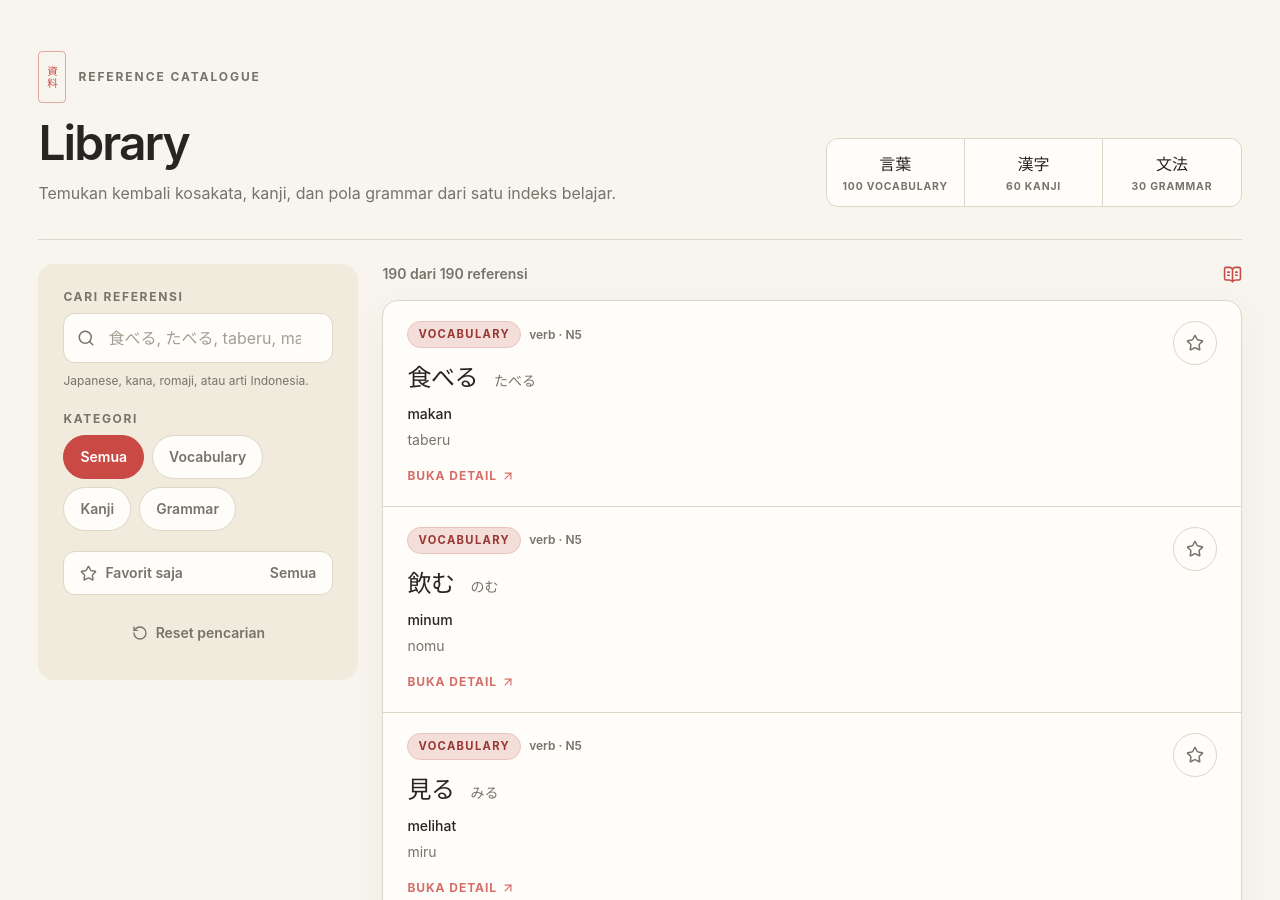
Test: LibraryPage › searches Japanese learning content by romaji and resets the result
In the search field labelled "Cari referensi": x=198, y=338 [63,313,333,363], type "taberu"
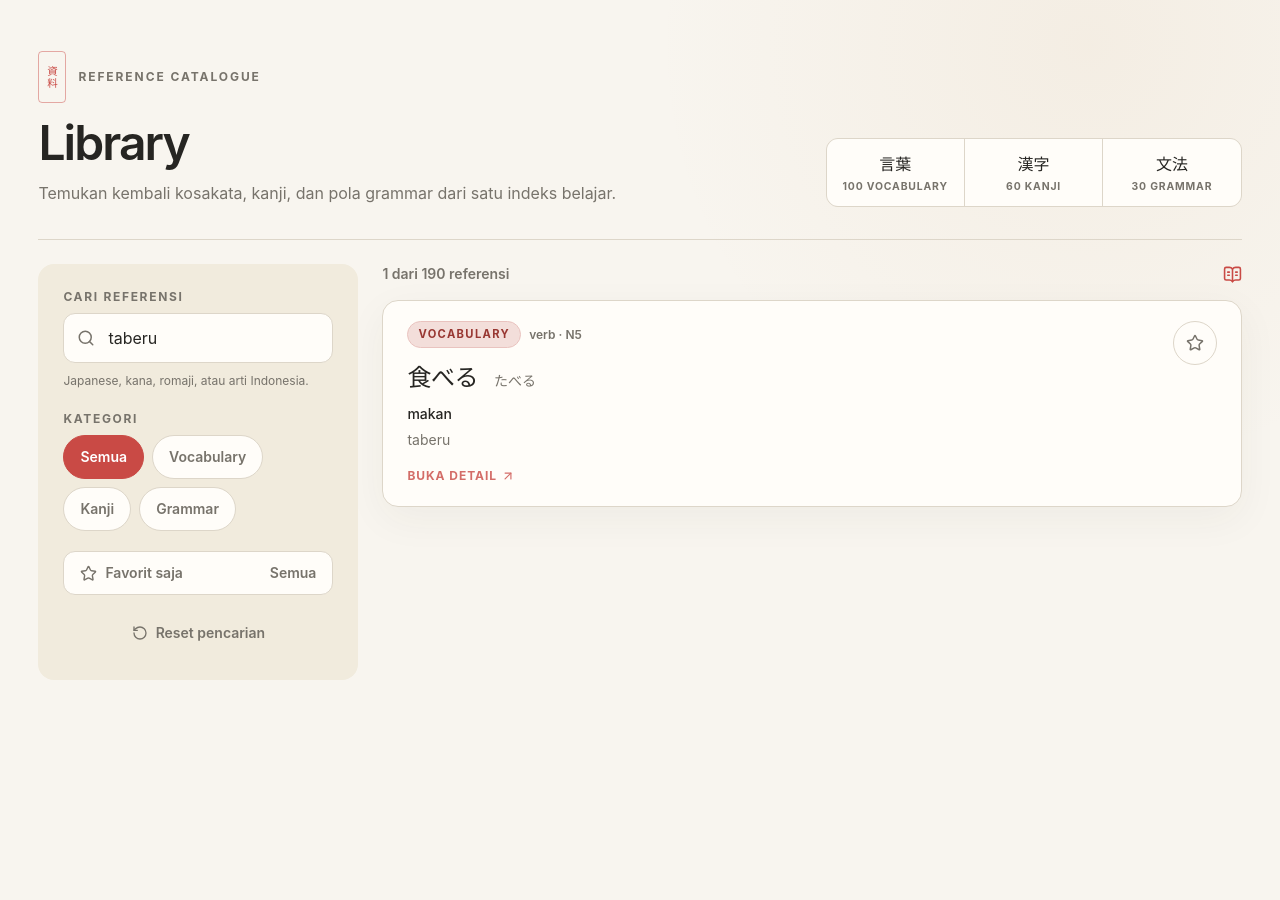
Check: the heading "食べる" is shown, box [407,360,478,392]
Check: the link "飲む" is gone
Click the button "Reset pencarian": x=198, y=633 [63,611,333,655]
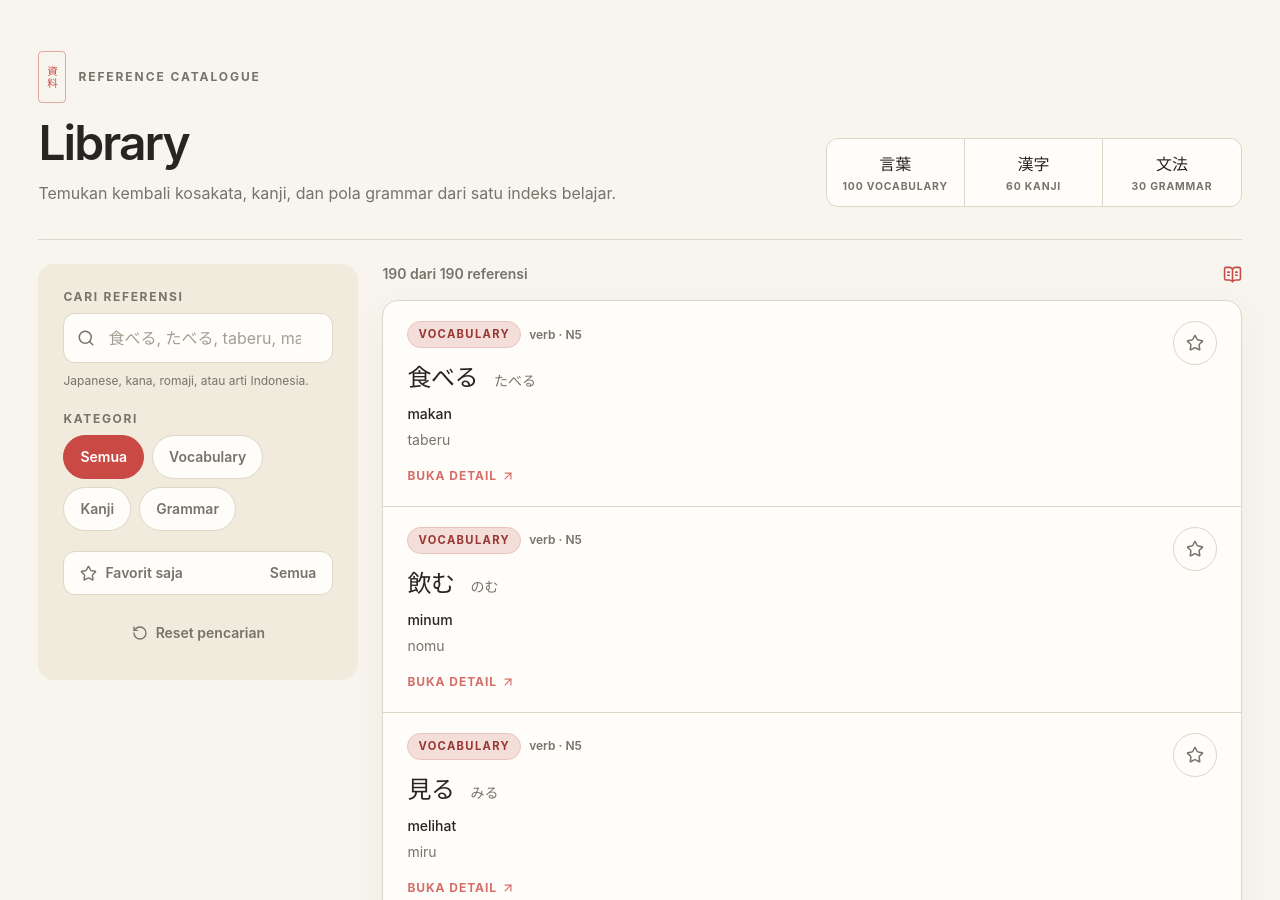
Check: the heading "飲む" is shown, box [407,566,454,598]
